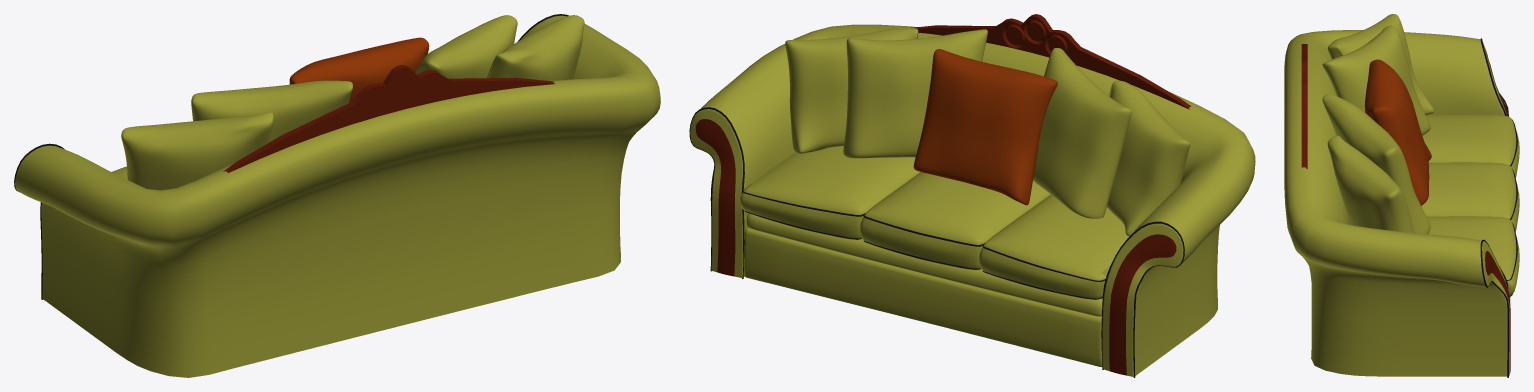
Rendered from o_env_sofaA.FBX.
3 views of the same model, side by side, from view 1: azimuth 30°, elevation 25°; view 2: azimuth 150°, elevation 25°; view 3: azimuth 270°, elevation 25° (orthographic). The views are drawn at different scales.
Parts seen in each view (by area): view 1: o_env_sofaA; view 2: o_env_sofaA; view 3: o_env_sofaA.
Boxes of the visible parts, left/top/right/bottom form: o_env_sofaA: left=14, top=14, right=660, bottom=377; o_env_sofaA: left=689, top=14, right=1255, bottom=377; o_env_sofaA: left=1284, top=14, right=1519, bottom=377.
Bounding box in the file's own units: 276 × 124 × 121.
